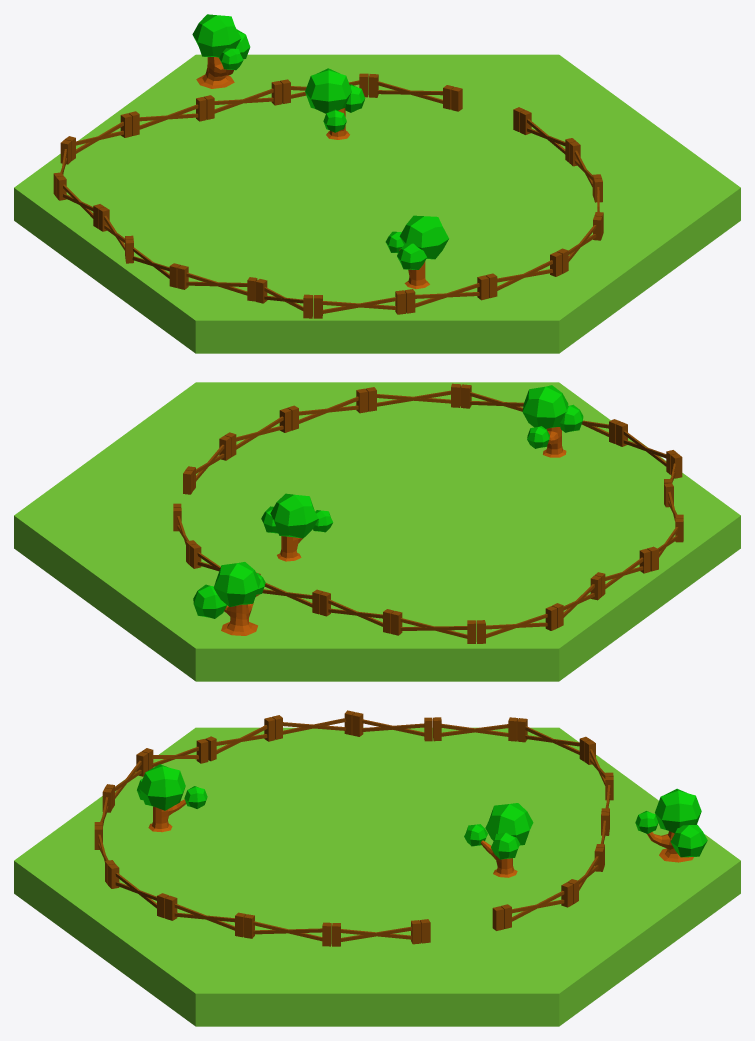
The model's file is SheepFarm.fbx.
3 views of the same model, one above another, from view 1: azimuth 30°, elevation 25°; view 2: azimuth 150°, elevation 25°; view 3: azimuth 270°, elevation 25° (orthographic).
Visible parts, largest first — view 1: Base; view 2: Base; view 3: Base.
Boxes of the visible parts, left/top/right/bottom form: Base: left=14, top=14, right=740, bottom=353; Base: left=14, top=382, right=740, bottom=681; Base: left=14, top=710, right=740, bottom=1026.
Bounding box in the file's own units: 173 × 29.72 × 200.
